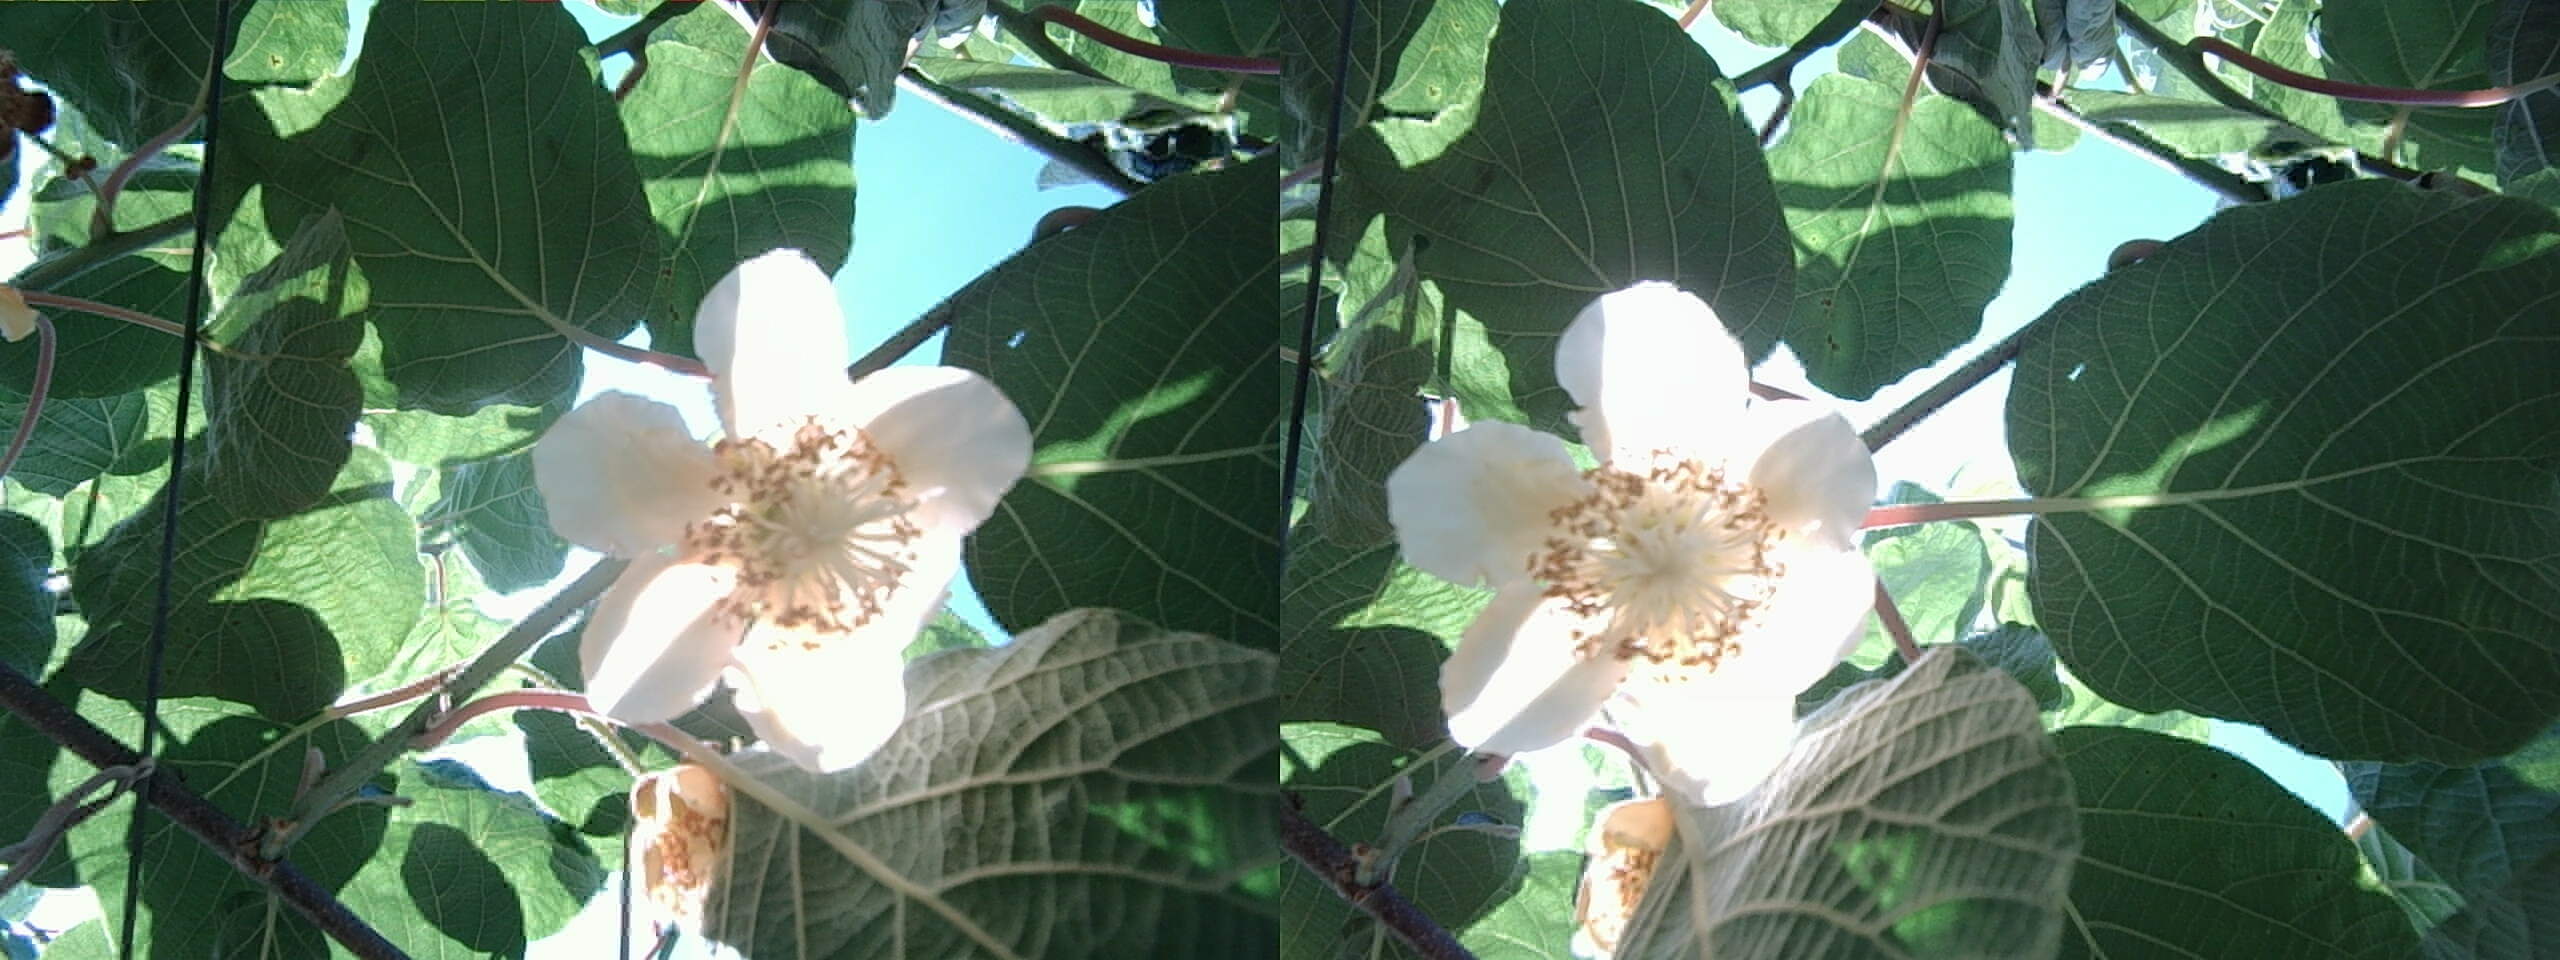flower: (619, 392, 955, 709), (1487, 431, 1855, 696), (1561, 281, 1750, 454), (625, 761, 730, 926)
